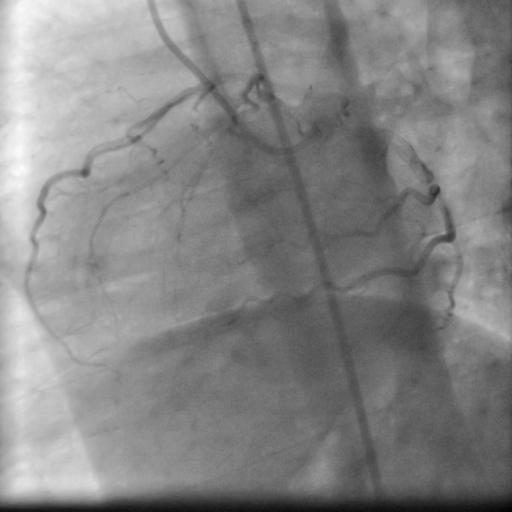Stenosis: (421, 175, 436, 186)
